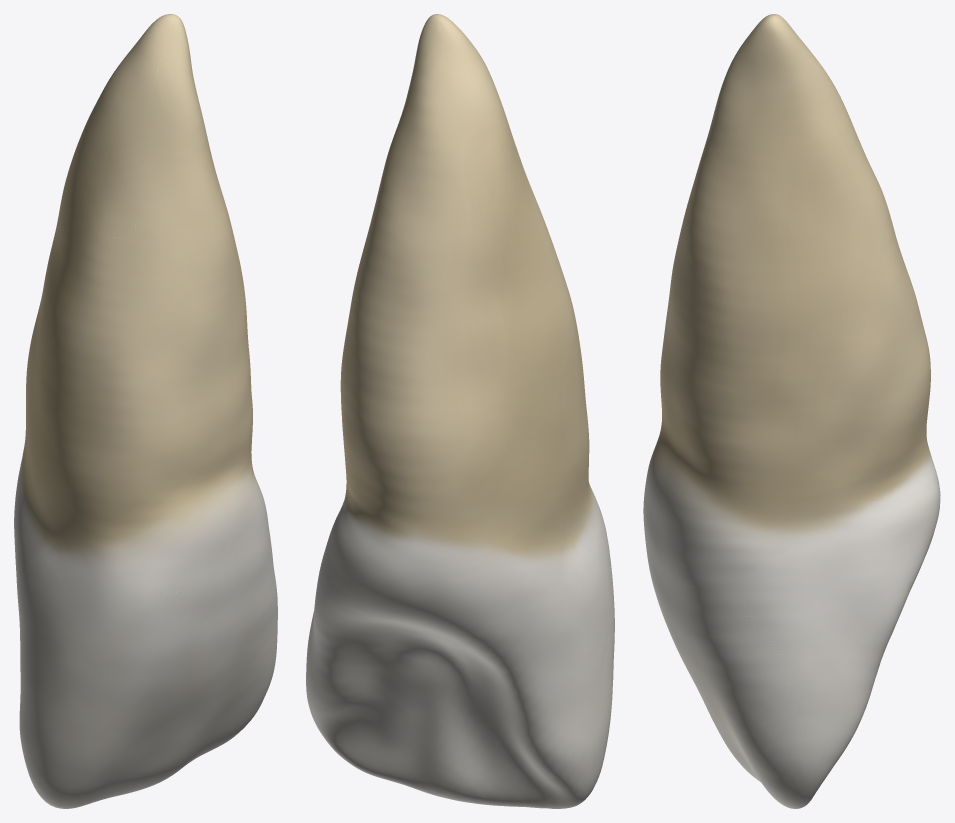
3 views of the same model, side by side, from view 1: azimuth 30°, elevation 25°; view 2: azimuth 150°, elevation 25°; view 3: azimuth 270°, elevation 25° (orthographic).
Visible parts, largest first — view 1: t21; view 2: t21; view 3: t21.
Part boxes in pixels (<box>): t21: <box>14,14,277,808</box>; t21: <box>306,14,614,808</box>; t21: <box>643,14,940,808</box>.
Size of the model in its own units: 8.29 by 23.5 by 8.13.
Materials: 1 (1 with a texture image).
